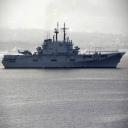Portanaves: (2, 22, 128, 71)
